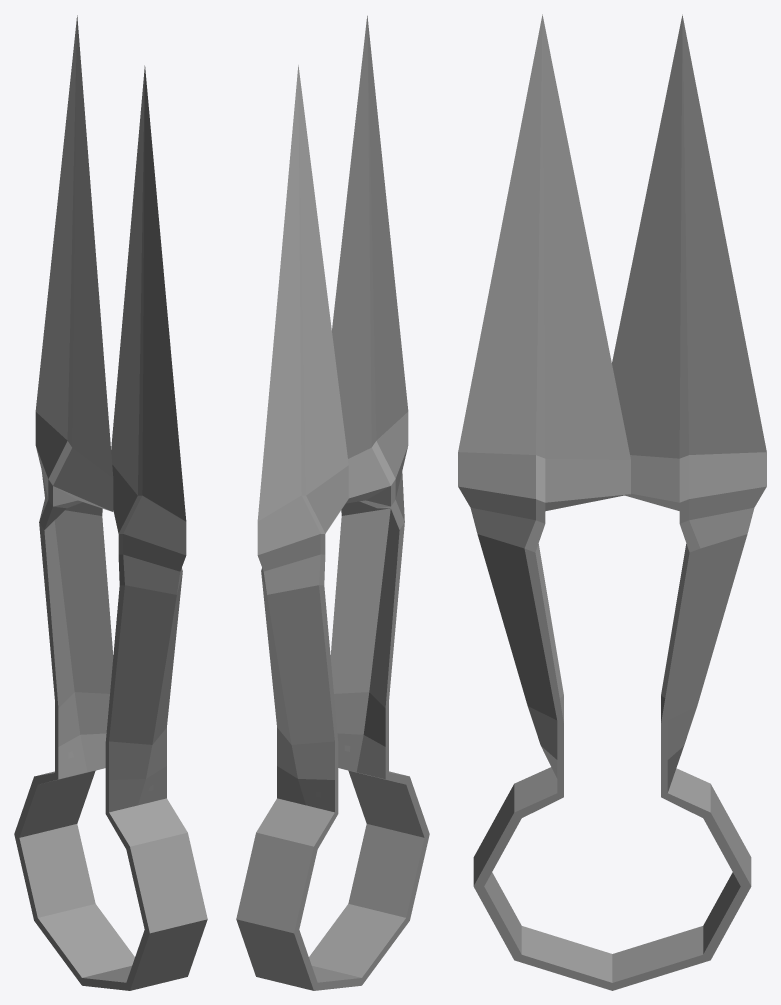
The model's file is shears02.obj.
The picture shows the model from 3 angles, left to right: view 1: azimuth 30°, elevation 25°; view 2: azimuth 150°, elevation 25°; view 3: azimuth 270°, elevation 25°; orthographic projection. The views are drawn at different scales.
Visible parts, largest first — view 1: Cylinder; view 2: Cylinder; view 3: Cylinder.
Part boxes in pixels (<box>): Cylinder: <box>14,15,207,990</box>; Cylinder: <box>236,15,429,990</box>; Cylinder: <box>458,14,766,990</box>.
Bounding box in the file's own units: 0.0168 × 0.26 × 0.0756.
1 material, 1 textured.
